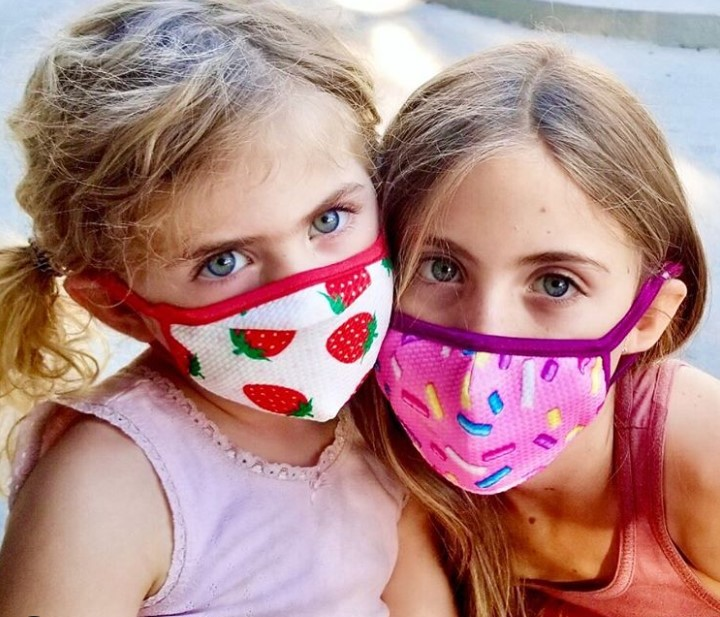face_with_mask: (51, 8, 396, 426), (378, 45, 690, 495)
